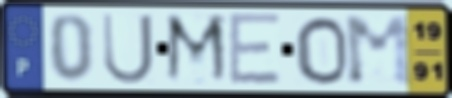0: (45, 11, 97, 85)
E: (226, 10, 284, 89)
M: (341, 14, 416, 88), (163, 12, 232, 87)
O: (292, 14, 350, 86)
U: (99, 11, 157, 87)
